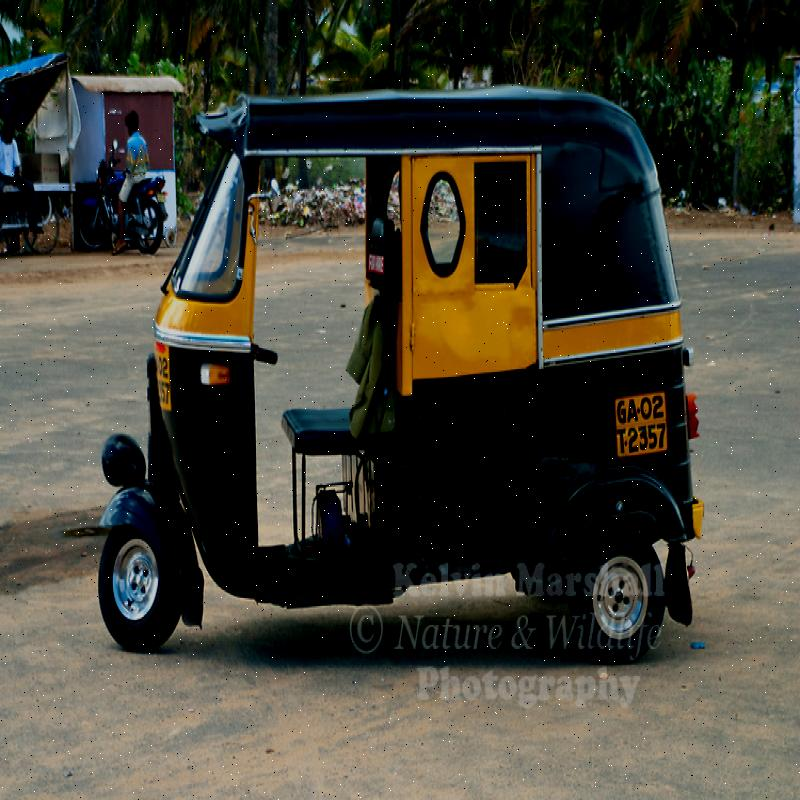auto: (82, 62, 704, 691)
